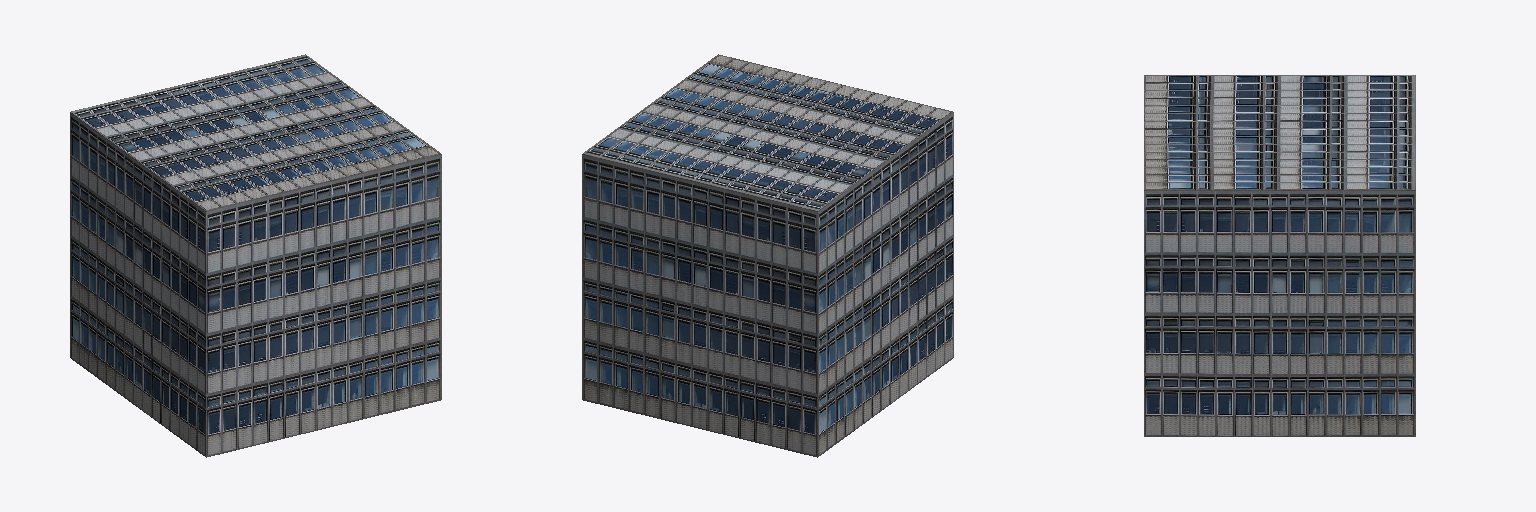
3 renders of one model, left to right at view 1: azimuth 30°, elevation 25°; view 2: azimuth 150°, elevation 25°; view 3: azimuth 270°, elevation 25°, orthographic.
Visible parts, largest first — view 1: Cube_Cube.001; view 2: Cube_Cube.001; view 3: Cube_Cube.001.
Part boxes in pixels (x1,y1,x2,y2): Cube_Cube.001: (70, 54, 441, 457); Cube_Cube.001: (582, 54, 953, 457); Cube_Cube.001: (1144, 75, 1415, 436).
Bounding box in the file's own units: 64 × 64 × 64.
1 materials, 1 textured.